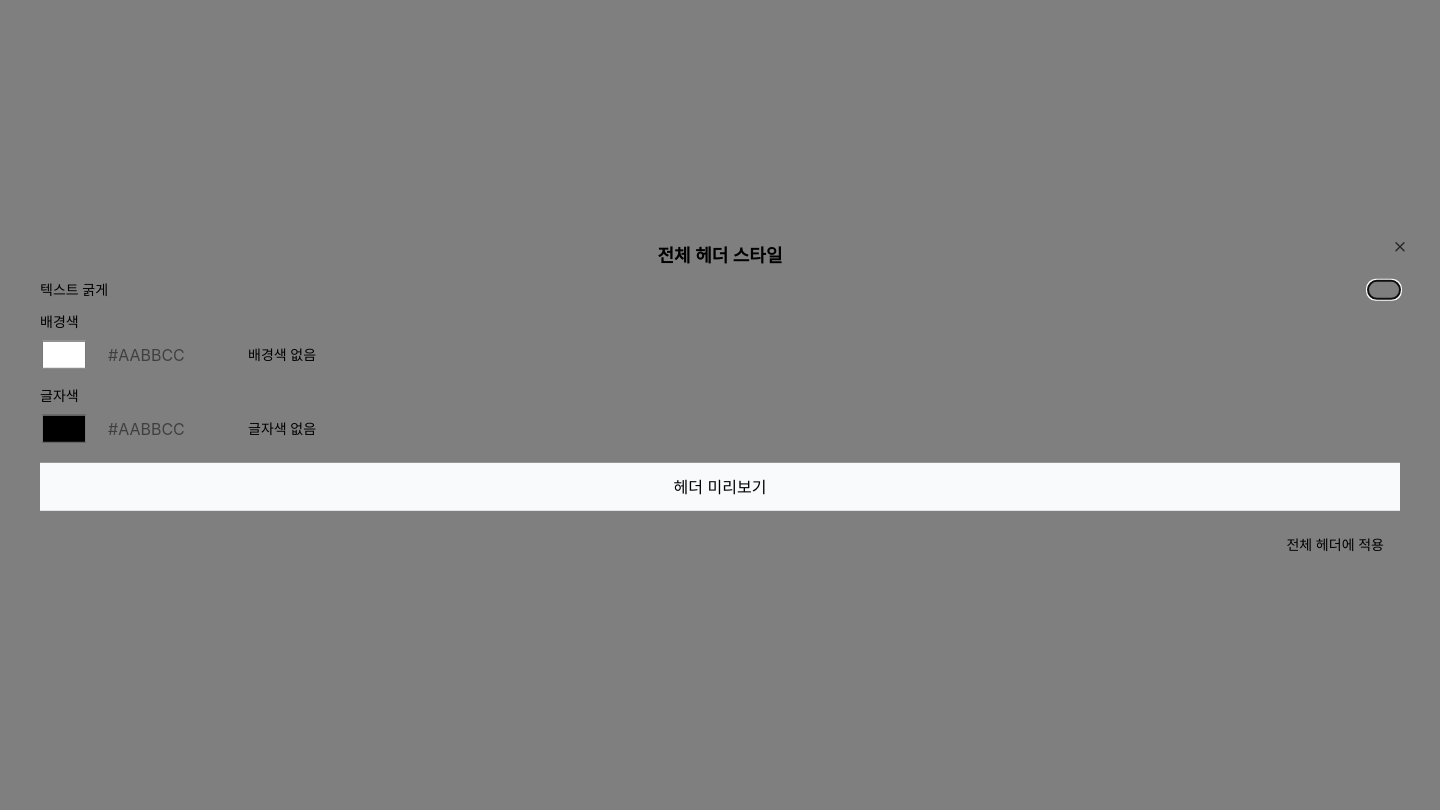
Test: HeaderBulkStyleDialog 확인 단계 › 스타일이 섞여 있으면 확인 문구를 먼저 띄우고 적용하지 않는다
Click the button "전체 헤더에 적용" at (1335, 545), box [1270,527,1400,563]
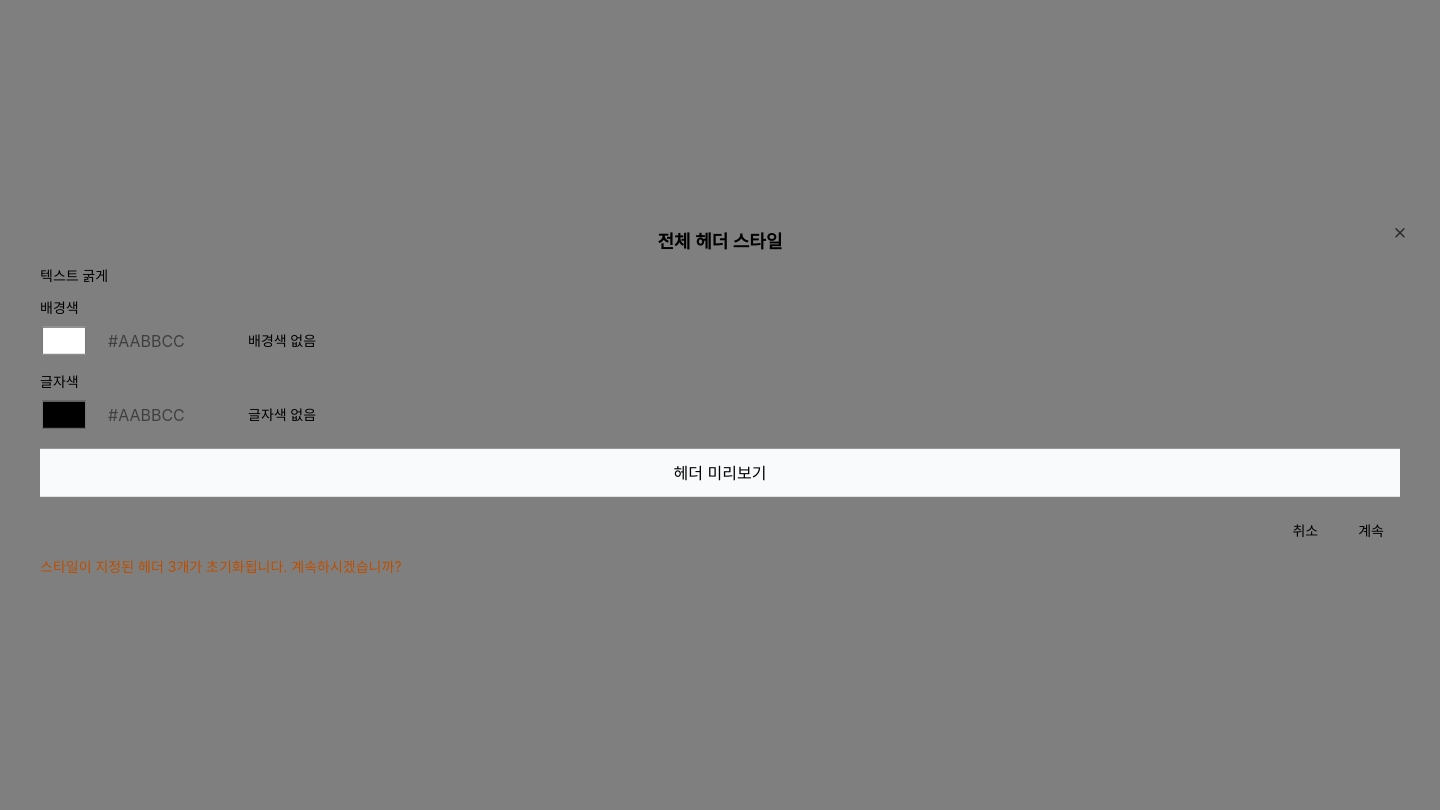
Now the message shows "스타일이 지정된 헤더 3개가 초기화됩니다.", box [40,558,402,575]
